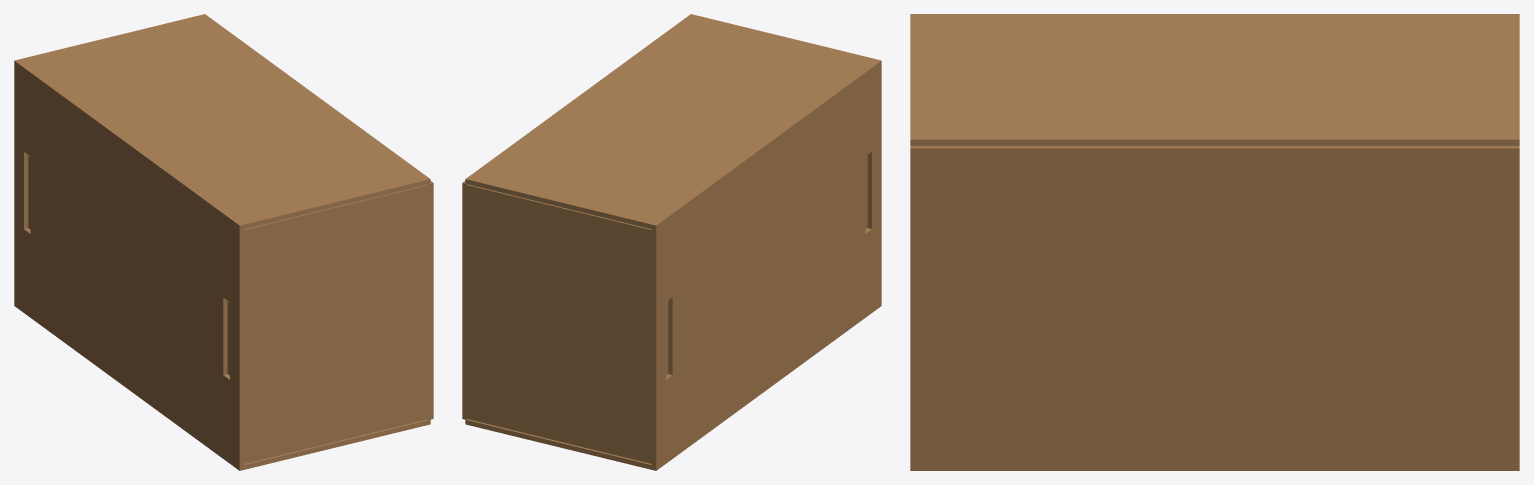
File: caja_01.glb
3 renders of one model, left to right at view 1: azimuth 30°, elevation 25°; view 2: azimuth 150°, elevation 25°; view 3: azimuth 270°, elevation 25°, orthographic. The views are drawn at different scales.
Visible parts, largest first — view 1: 01_Frente_con_ranuras:1, superior_tapa_principal:1, 03_Lateral_1:1, 03_Lateral_neg1:1, 02_Panel_posterior:1; view 2: 01_Frente_con_ranuras:1, inferior_tapa_principal:1, 03_Lateral_1:1, 03_Lateral_neg1:1, 02_Panel_posterior:1; view 3: 02_Panel_posterior:1, 03_Lateral_1:1, 03_Lateral_neg1:1, 01_Frente_con_ranuras:1.
Part boxes in pixels (box(x1,y1,x2,y2)): 01_Frente_con_ranuras:1: box(14, 59, 244, 470); superior_tapa_principal:1: box(244, 184, 429, 463); 03_Lateral_1:1: box(19, 14, 430, 228); 03_Lateral_neg1:1: box(244, 419, 430, 469); 02_Panel_posterior:1: box(428, 181, 433, 419); 01_Frente_con_ranuras:1: box(651, 59, 881, 470); inferior_tapa_principal:1: box(466, 184, 651, 463); 03_Lateral_1:1: box(465, 14, 876, 228); 03_Lateral_neg1:1: box(465, 419, 651, 469); 02_Panel_posterior:1: box(462, 181, 467, 419); 02_Panel_posterior:1: box(910, 146, 1519, 466); 03_Lateral_1:1: box(910, 17, 1519, 145); 03_Lateral_neg1:1: box(910, 466, 1519, 470); 01_Frente_con_ranuras:1: box(910, 14, 1519, 16).
Size of the model in its own units: 0.0497 by 0.06 by 0.1.
